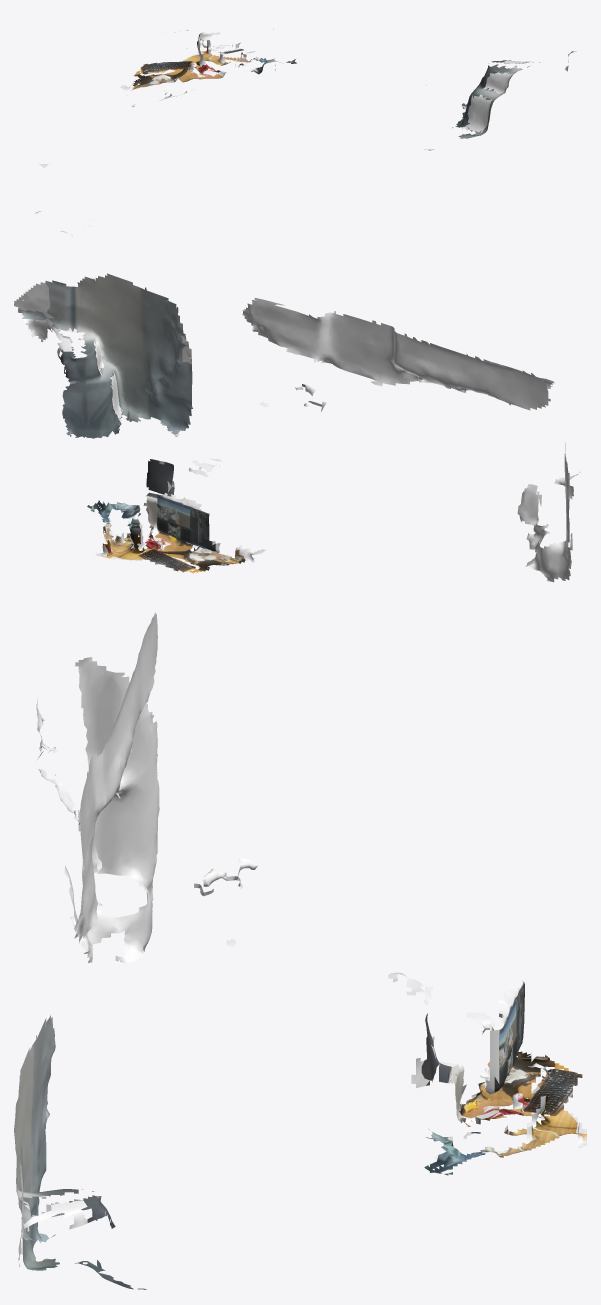
The picture shows the model from 3 angles, top to bottom: view 1: azimuth 30°, elevation 25°; view 2: azimuth 150°, elevation 25°; view 3: azimuth 270°, elevation 25°; orthographic projection. The views are drawn at different scales.
Visible parts, largest first — view 1: texture_0, object 1; view 2: texture_0, object 1; view 3: object 1, texture_0.
Part boxes in pixels (<box>): texture_0: <box>132,33,576,150</box>; object 1: <box>35,29,571,236</box>; texture_0: <box>15,273,304,573</box>; object 1: <box>14,282,580,582</box>; object 1: <box>18,612,586,1266</box>; texture_0: <box>14,980,586,1289</box>.
Size of the model in its own units: 5.06 by 1.66 by 2.48.
2 materials, 1 textured.
